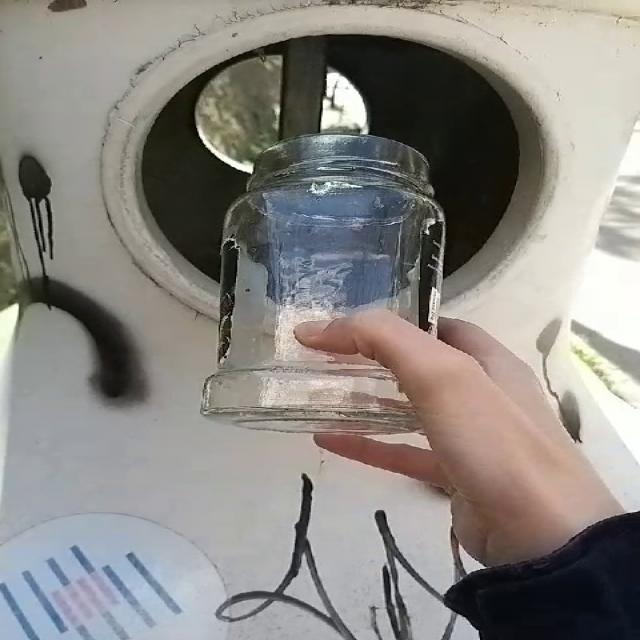glass: (201, 134, 444, 433)
